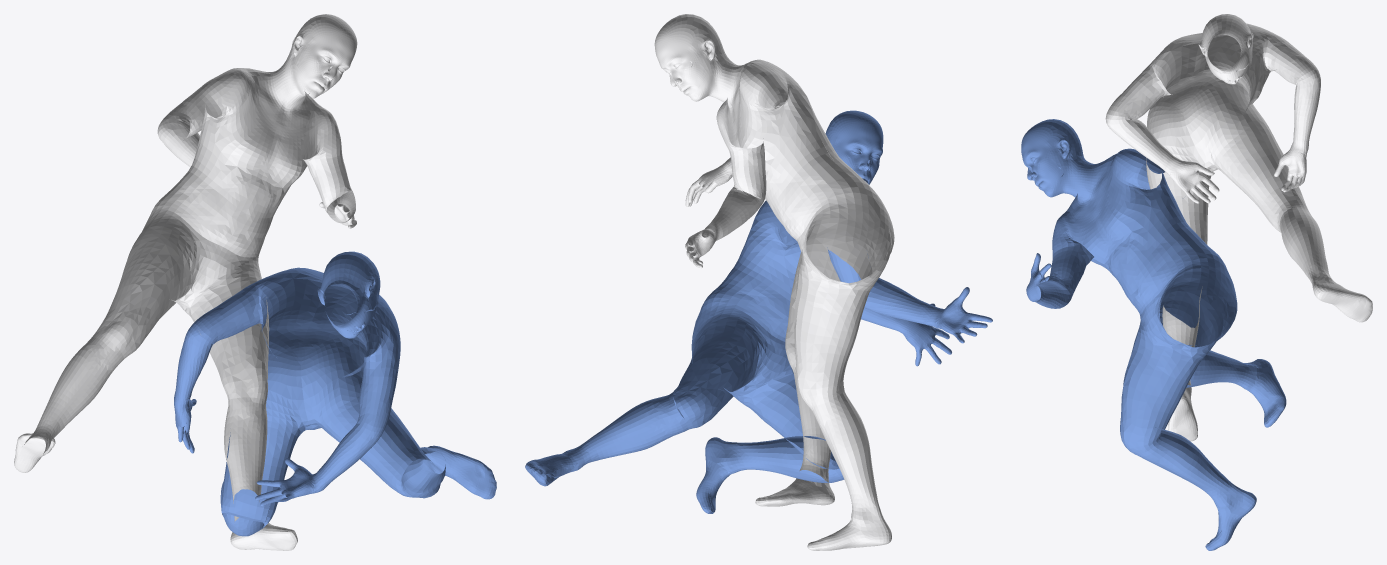
The model's file is double-leg-4-drive.glb.
The picture shows the model from 3 angles, left to right: view 1: azimuth 30°, elevation 25°; view 2: azimuth 150°, elevation 25°; view 3: azimuth 270°, elevation 25°; orthographic projection. The views are drawn at different scales.
Parts seen in each view (by area): view 1: p0, p1; view 2: p0, p1; view 3: p1, p0.
Part boxes in pixels (x1=…): p0: x1=14, y1=14, x2=357, y2=550; p1: x1=174, y1=251, x2=496, y2=536; p0: x1=654, y1=14, x2=894, y2=550; p1: x1=525, y1=110, x2=992, y2=513; p1: x1=1021, y1=119, x2=1286, y2=550; p0: x1=1105, y1=14, x2=1372, y2=441.
Size of the model in its own units: 1.38 by 1.61 by 1.1.
